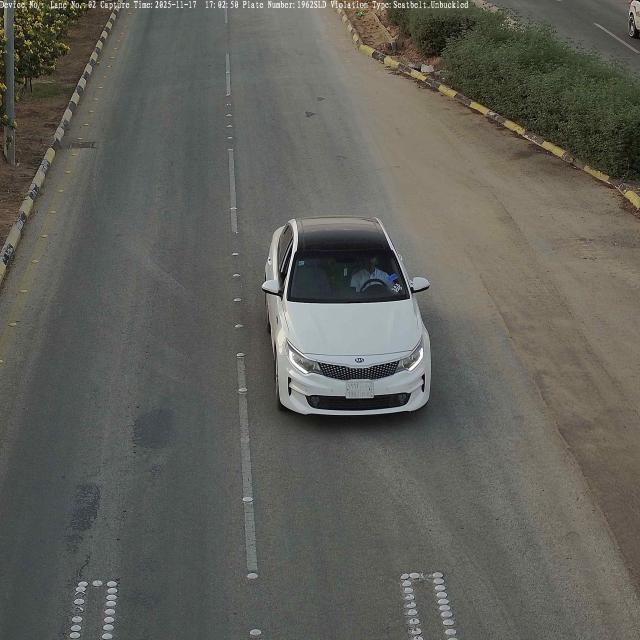person_without_seatbelt: (351, 253, 392, 292)
